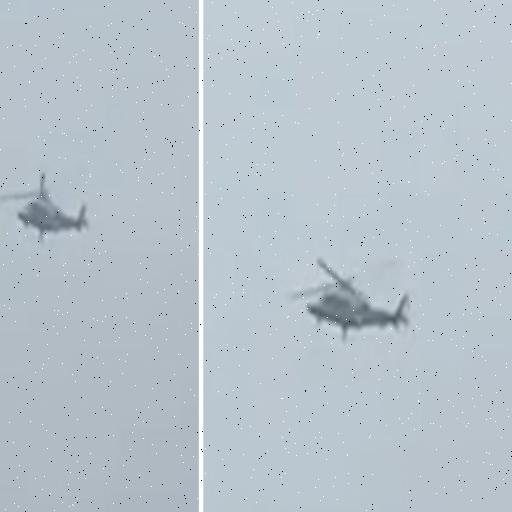helicopter: (296, 258, 413, 339), (1, 168, 93, 244)
